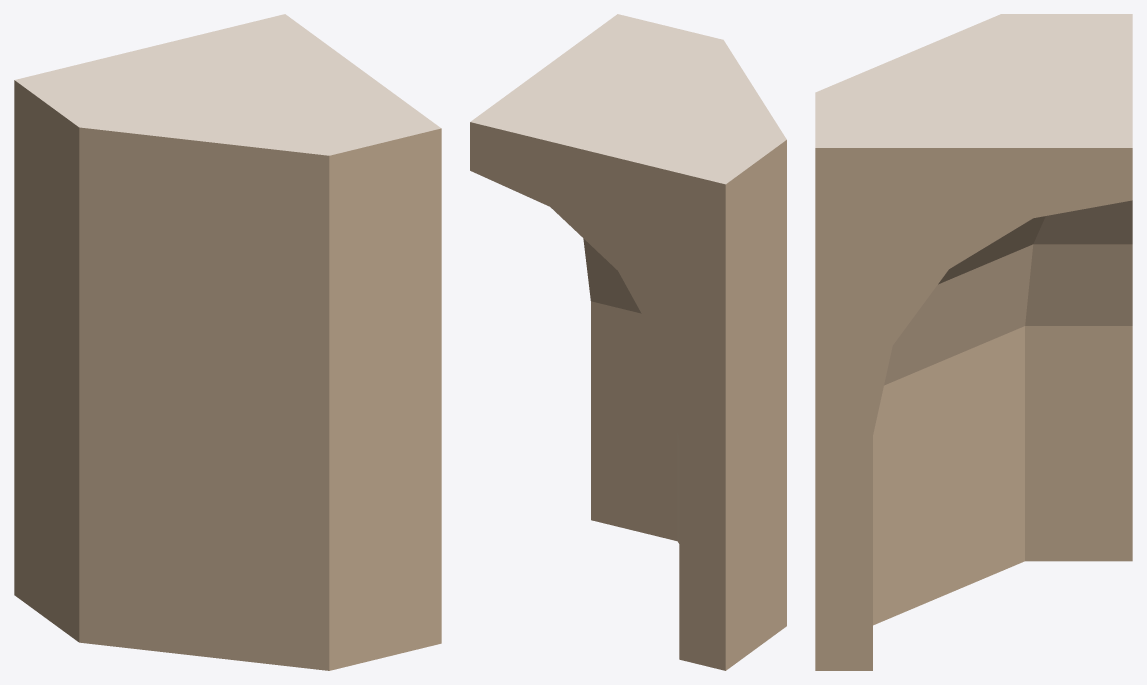
The model's file is Wall_Arch_Corner_Inner.fbx.
3 renders of one model, left to right at view 1: azimuth 30°, elevation 25°; view 2: azimuth 150°, elevation 25°; view 3: azimuth 270°, elevation 25°, orthographic. The views are drawn at different scales.
Parts seen in each view (by area): view 1: Sandstone_Trim, object1; view 2: Sandstone_Trim, object1; view 3: Sandstone_Trim, object1.
Part boxes in pixels (x1,y1,x2,y2): Sandstone_Trim: (14, 80, 441, 670); object1: (15, 14, 441, 155); Sandstone_Trim: (470, 122, 786, 670); object1: (470, 14, 786, 184); Sandstone_Trim: (815, 148, 1132, 670); object1: (815, 14, 1132, 147).
Bounding box in the file's own units: 1.1 × 2 × 1.1.
